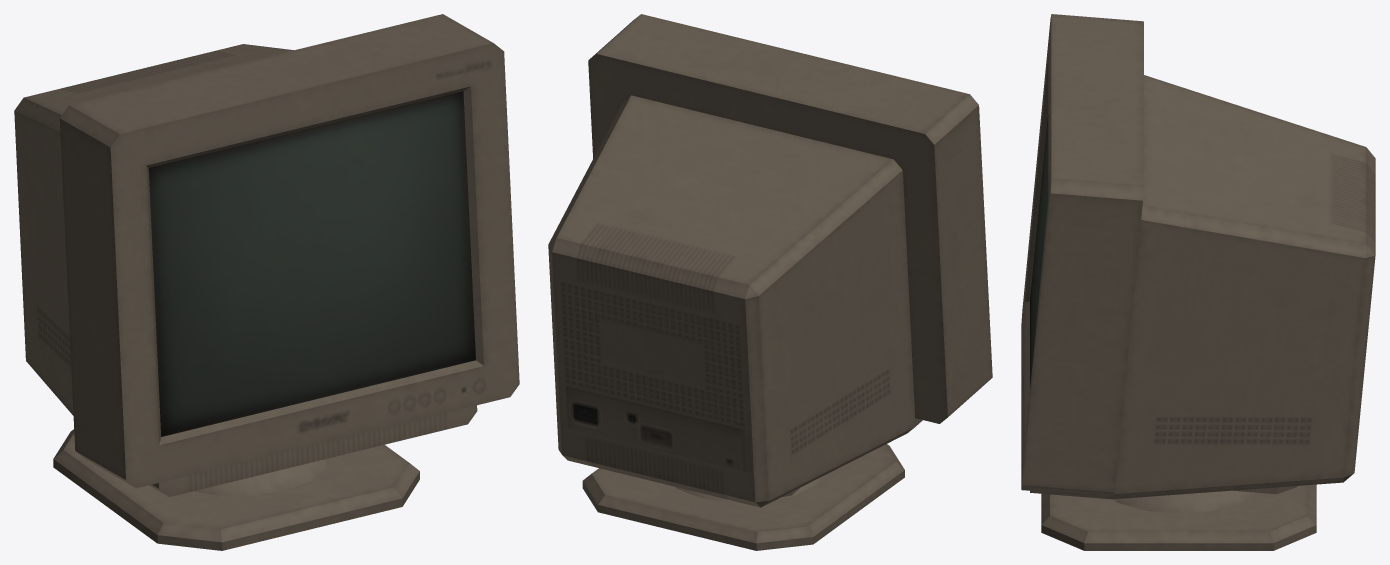
Rendered from pc_monitor_mp_1.obj.
3 views of the same model, side by side, from view 1: azimuth 30°, elevation 25°; view 2: azimuth 150°, elevation 25°; view 3: azimuth 270°, elevation 25° (orthographic). The views are drawn at different scales.
Visible parts, largest first — view 1: pc_monitor_mp_1_screen, pc_monitor_mp_1; view 2: pc_monitor_mp_1_screen, pc_monitor_mp_1; view 3: pc_monitor_mp_1_screen, pc_monitor_mp_1.
Part boxes in pixels (x1,y1,x2,y2): pc_monitor_mp_1_screen: [14, 14, 519, 496]; pc_monitor_mp_1: [53, 429, 419, 550]; pc_monitor_mp_1_screen: [548, 14, 992, 507]; pc_monitor_mp_1: [582, 444, 904, 550]; pc_monitor_mp_1_screen: [1021, 14, 1375, 499]; pc_monitor_mp_1: [1041, 484, 1316, 550].
Size of the model in its own units: 0.48 by 0.5083 by 0.412.
